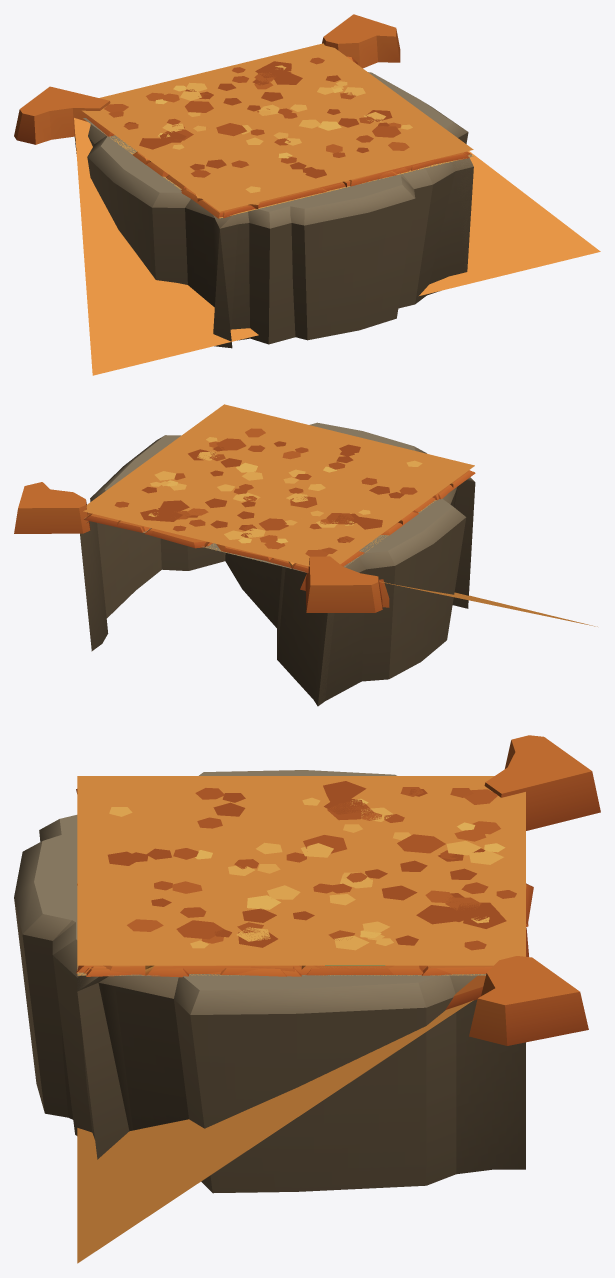
Rendered from Tileset.gltf.
3 views of the same model, one above another, from view 1: azimuth 30°, elevation 25°; view 2: azimuth 150°, elevation 25°; view 3: azimuth 270°, elevation 25° (orthographic). The views are drawn at different scales.
Visible parts, largest first — view 1: diagonal_support, block_a, ramp_left, block_d, corner_b, ramp_right, block_c, diagonal_a, center_a, block_b, corner_a, diagonal_b (+4 smaller); view 2: diagonal_support, corner_b, block_d, corner_a, block_a, diagonal_b, diagonal_a, center_a, block_b, ramp_left, ramp_right, center_f (+4 smaller); view 3: corner_a, diagonal_support, block_d, block_b, ramp_right, block_a, diagonal_a, center_a, diagonal_b, ramp_left, corner_b, block_c (+6 smaller).
Boxes of the visible parts, x1=… form: diagonal_support: x1=82, y1=43, x2=473, y2=348; block_a: x1=106, y1=45, x2=470, y2=340; ramp_left: x1=14, y1=86, x2=473, y2=375; block_d: x1=110, y1=43, x2=473, y2=329; corner_b: x1=75, y1=79, x2=413, y2=337; ramp_right: x1=322, y1=14, x2=600, y2=282; block_c: x1=172, y1=75, x2=473, y2=344; diagonal_a: x1=74, y1=45, x2=473, y2=271; center_a: x1=159, y1=45, x2=472, y2=211; block_b: x1=115, y1=44, x2=400, y2=329; corner_a: x1=123, y1=65, x2=468, y2=297; diagonal_b: x1=130, y1=46, x2=449, y2=132; diagonal_support: x1=84, y1=404, x2=474, y2=572; corner_b: x1=185, y1=447, x2=466, y2=703; block_d: x1=85, y1=421, x2=454, y2=566; corner_a: x1=80, y1=435, x2=475, y2=651; block_a: x1=90, y1=422, x2=452, y2=565; diagonal_b: x1=88, y1=422, x2=327, y2=706; diagonal_a: x1=86, y1=426, x2=334, y2=706; center_a: x1=90, y1=404, x2=474, y2=564; block_b: x1=83, y1=424, x2=451, y2=565; ramp_left: x1=300, y1=556, x2=597, y2=626; ramp_right: x1=14, y1=482, x2=90, y2=533; center_f: x1=84, y1=470, x2=469, y2=573; corner_a: x1=98, y1=787, x2=525, y2=1193; diagonal_support: x1=77, y1=776, x2=525, y2=975; block_d: x1=52, y1=776, x2=525, y2=1135; block_b: x1=131, y1=776, x2=525, y2=966; ramp_right: x1=77, y1=956, x2=588, y2=1263; block_a: x1=14, y1=776, x2=525, y2=1139; diagonal_a: x1=77, y1=833, x2=516, y2=990; center_a: x1=77, y1=776, x2=525, y2=965; diagonal_b: x1=77, y1=807, x2=525, y2=1159; ramp_left: x1=77, y1=735, x2=600, y2=1168; corner_b: x1=54, y1=770, x2=500, y2=1119; block_c: x1=39, y1=797, x2=488, y2=968.
Size of the model in its own units: 4 by 1.08 by 2.62.
2 materials, 2 textured.
